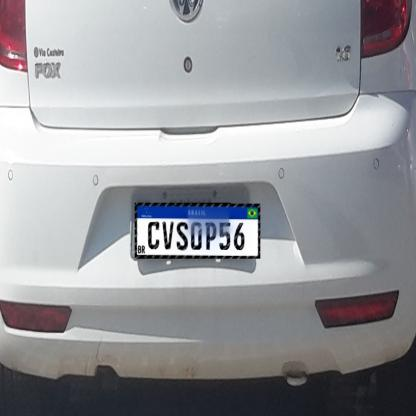PlacaM: (135, 202, 260, 258)
